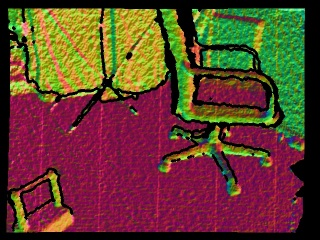station: (10, 168, 75, 235)
